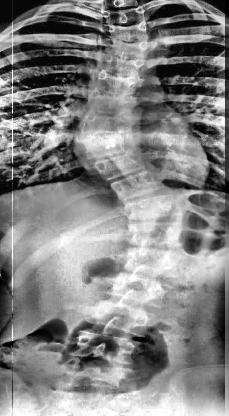Vertebrae: (70, 332, 142, 368), (84, 302, 154, 338), (59, 358, 131, 390), (108, 274, 172, 308), (123, 194, 185, 226), (121, 248, 186, 278), (91, 152, 153, 182), (78, 131, 142, 159), (109, 172, 170, 200), (124, 224, 187, 248), (92, 68, 148, 94), (77, 110, 136, 134), (98, 53, 150, 77), (86, 89, 138, 113), (104, 21, 152, 43), (108, 39, 152, 61), (99, 8, 149, 24)
